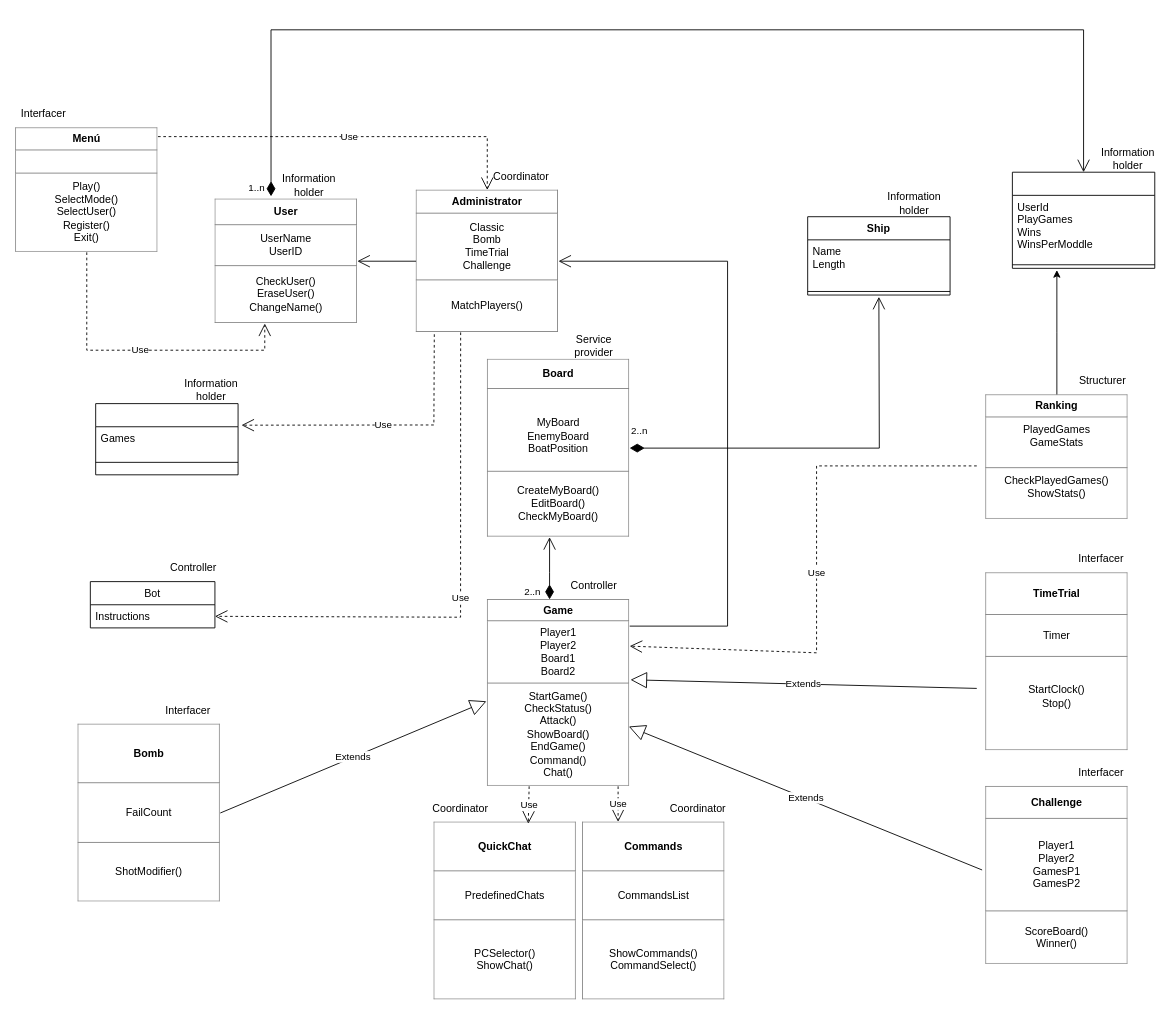
Image size: 1170x1015. Some labels were removed from this diagram. The shapes that lost their labels are listed below. From the top down, each one's box as (x1, y1, x2, y2) in pixels, then its label:
(1011, 171, 1155, 268): Stadistics
(95, 403, 238, 475): CurrentGames
